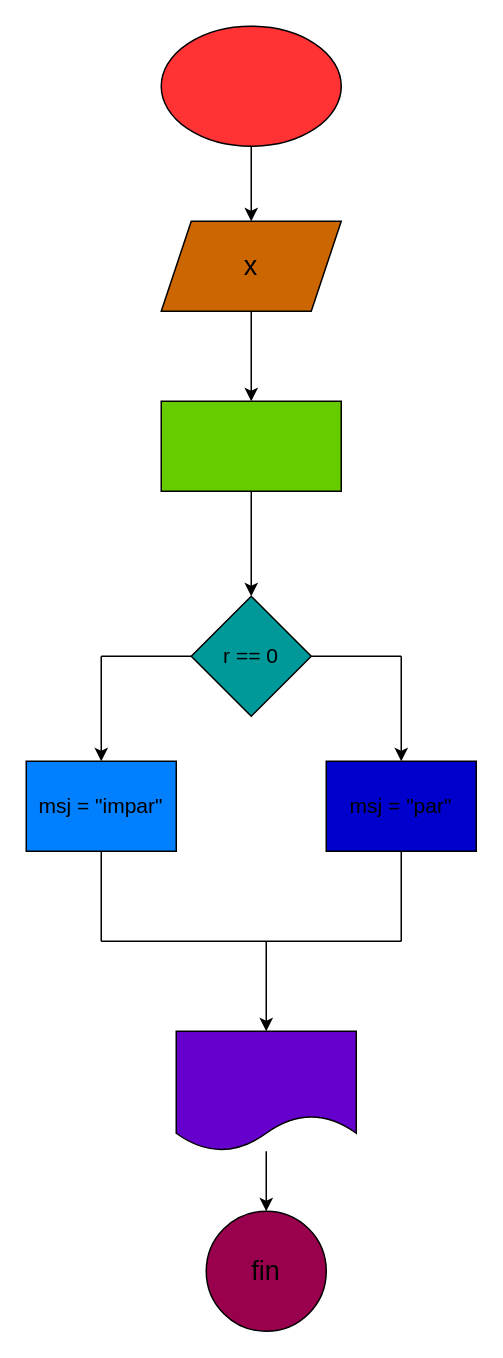
The diagram is 503 pixels wide and 1358 high, and some of its shapes have lost their labels. Each missing label, with the centre of its shape:
inicio: (x=250, y=85)
r = x%2: (x=250, y=445)
x es msj: (x=265, y=1090)
